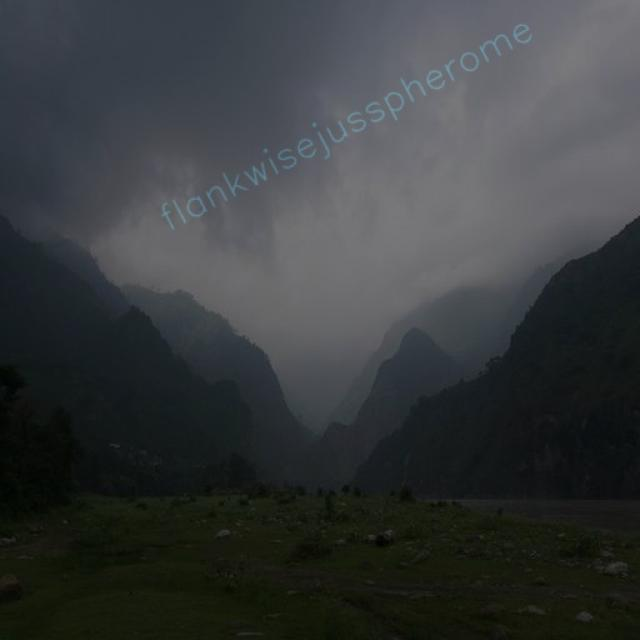watermark: (158, 7, 535, 238)
